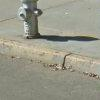Hydrant: (10, 2, 51, 44)
